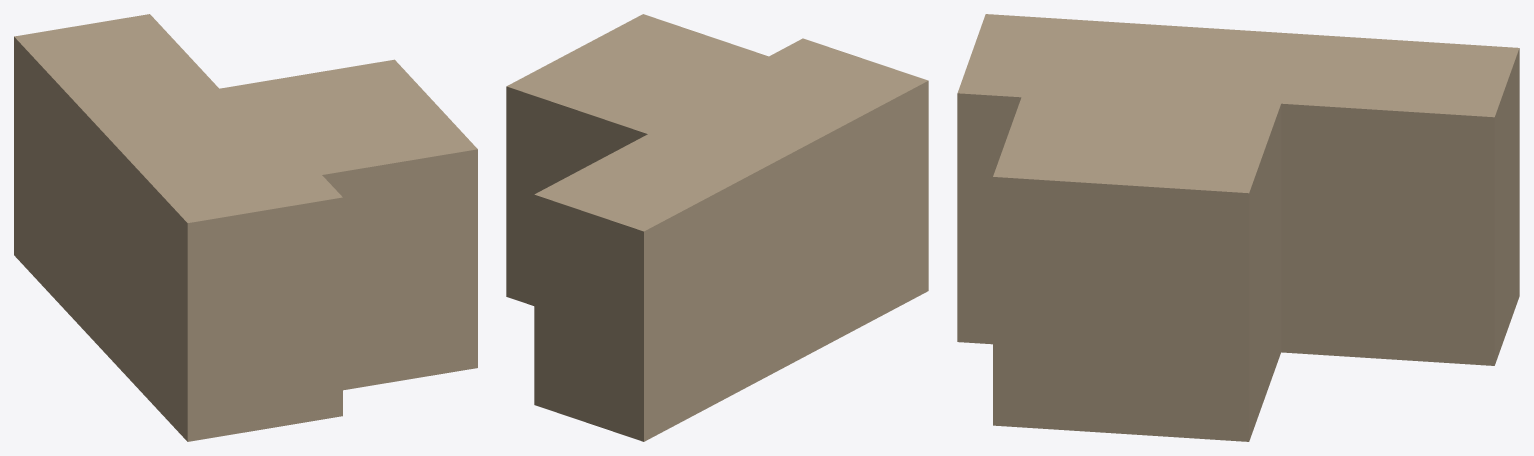
The model's file is bld_108165925.dae.
3 renders of one model, left to right at view 1: azimuth 30°, elevation 25°; view 2: azimuth 150°, elevation 25°; view 3: azimuth 270°, elevation 25°, orthographic. The views are drawn at different scales.
Parts seen in each view (by area): view 1: bld_108165925; view 2: bld_108165925; view 3: bld_108165925.
Part boxes in pixels (x1=…): bld_108165925: x1=14, y1=14, x2=477, y2=441; bld_108165925: x1=506, y1=14, x2=928, y2=441; bld_108165925: x1=957, y1=14, x2=1519, y2=441.
Size of the model in its own units: 12.36 by 16.38 by 8.
